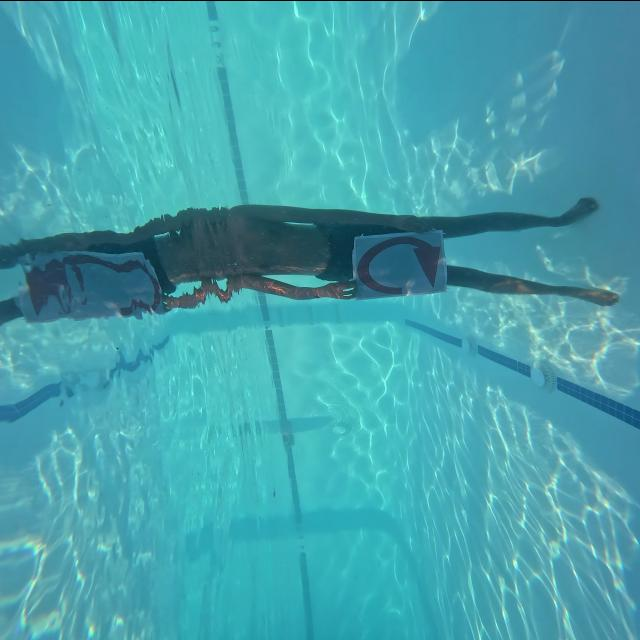red_side: (352, 230, 449, 298)
